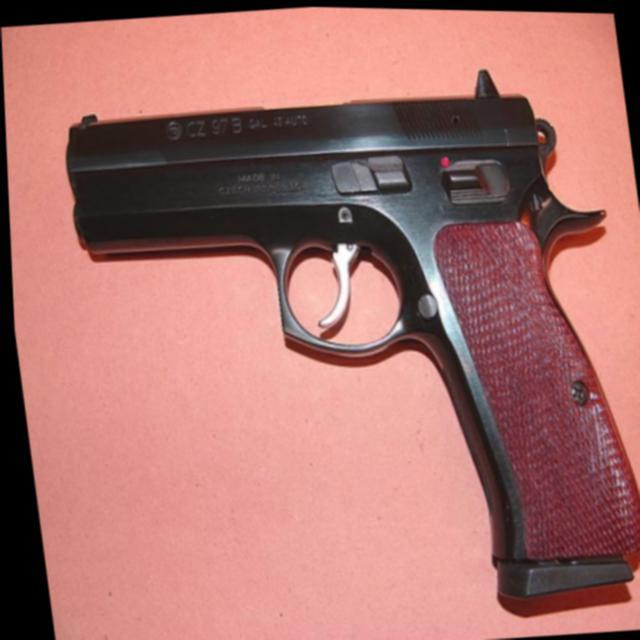weapon: (53, 49, 640, 636)
